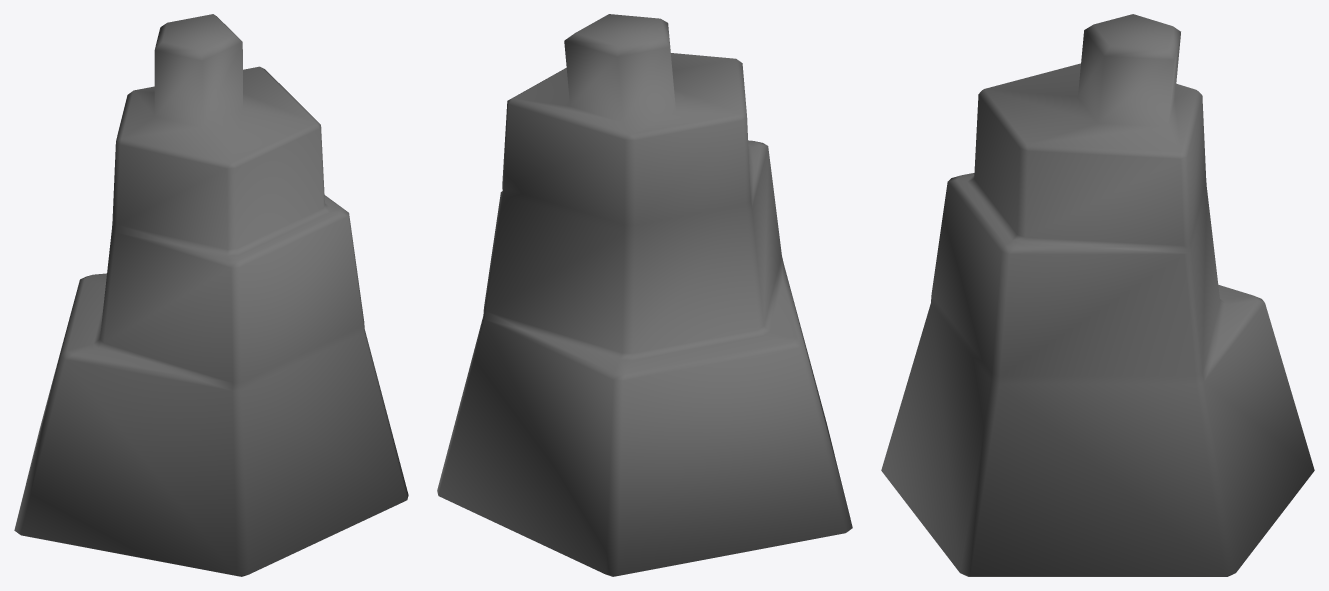
The model's file is layeredRock-03_col.fbx.
3 renders of one model, left to right at view 1: azimuth 30°, elevation 25°; view 2: azimuth 150°, elevation 25°; view 3: azimuth 270°, elevation 25°, orthographic. The views are drawn at different scales.
Visible parts, largest first — view 1: layeredRock-03.col; view 2: layeredRock-03.col; view 3: layeredRock-03.col.
Boxes of the visible parts, left/top/right/bottom form: layeredRock-03.col: left=14, top=14, right=408, bottom=576; layeredRock-03.col: left=437, top=14, right=852, bottom=576; layeredRock-03.col: left=881, top=14, right=1314, bottom=576.
Size of the model in its own units: 0.324 by 0.4134 by 0.3407.
Materials: 1 (1 with a texture image).
